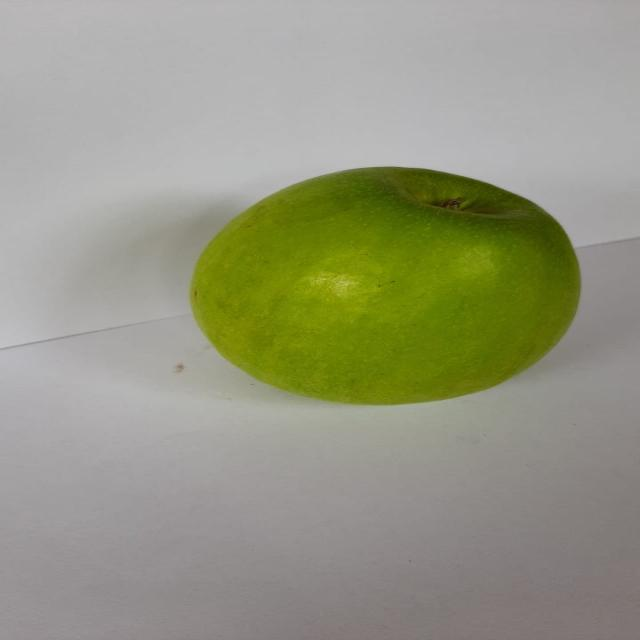50-_ripeness: (173, 154, 608, 419)
